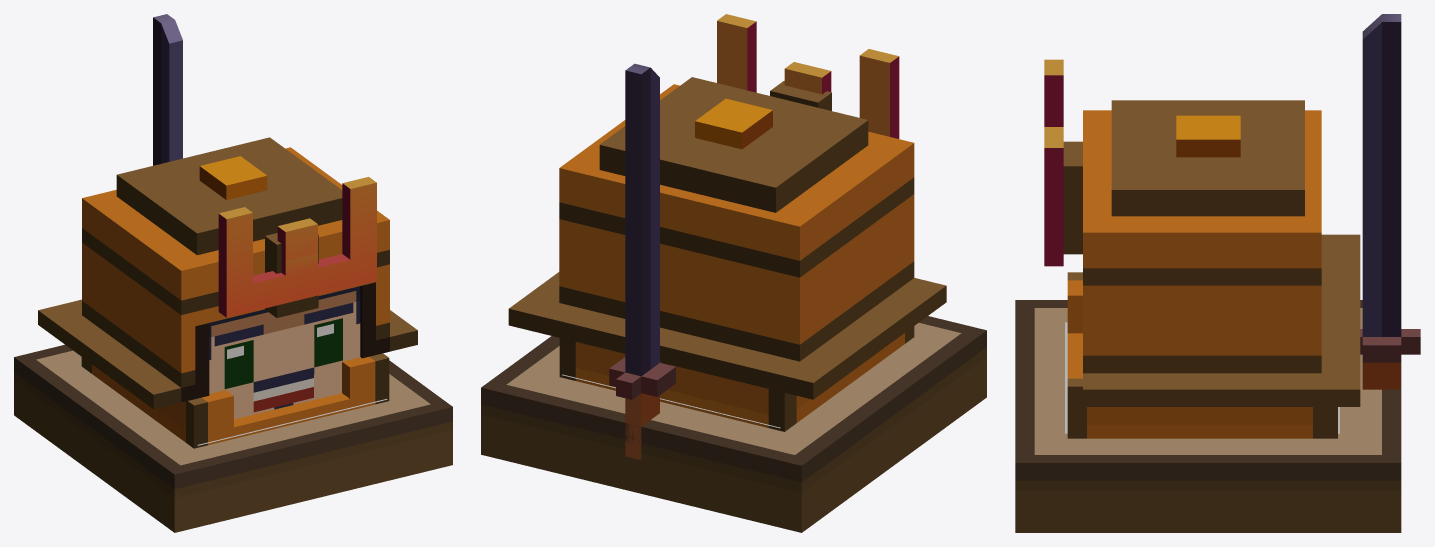
Rendered from Tower_Samurai_LVL4.fbx.
3 renders of one model, left to right at view 1: azimuth 30°, elevation 25°; view 2: azimuth 150°, elevation 25°; view 3: azimuth 270°, elevation 25°, orthographic. The views are drawn at different scales.
Visible parts, largest first — view 1: hat, Base, Body, U, Mask, Weapon; view 2: hat, Base, Weapon, Mask, U; view 3: hat, Base, Weapon, Mask, U.
Boxes of the visible parts, bbox=[...] form: hat: bbox=[38, 137, 417, 409]; Base: bbox=[14, 344, 452, 532]; Body: bbox=[209, 286, 360, 419]; U: bbox=[218, 177, 376, 317]; Mask: bbox=[81, 353, 389, 448]; Weapon: bbox=[153, 14, 182, 165]; hat: bbox=[508, 77, 946, 399]; Base: bbox=[481, 316, 986, 532]; Weapon: bbox=[609, 63, 675, 459]; Mask: bbox=[559, 326, 914, 431]; U: bbox=[717, 14, 899, 138]; hat: bbox=[1063, 100, 1360, 406]; Base: bbox=[1015, 300, 1401, 532]; Weapon: bbox=[1360, 14, 1420, 389]; Mask: bbox=[1067, 272, 1337, 438]; U: bbox=[1044, 59, 1063, 266].
Size of the model in its own units: 100 by 125 by 105.
